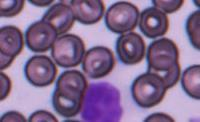L: (78, 76, 124, 122)
